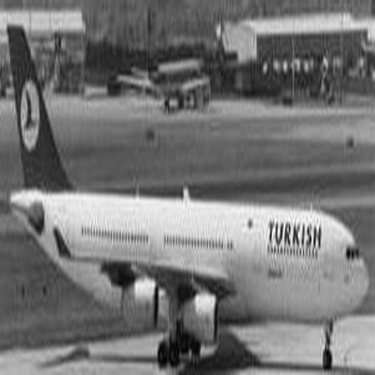airplane: (1, 6, 370, 372)
